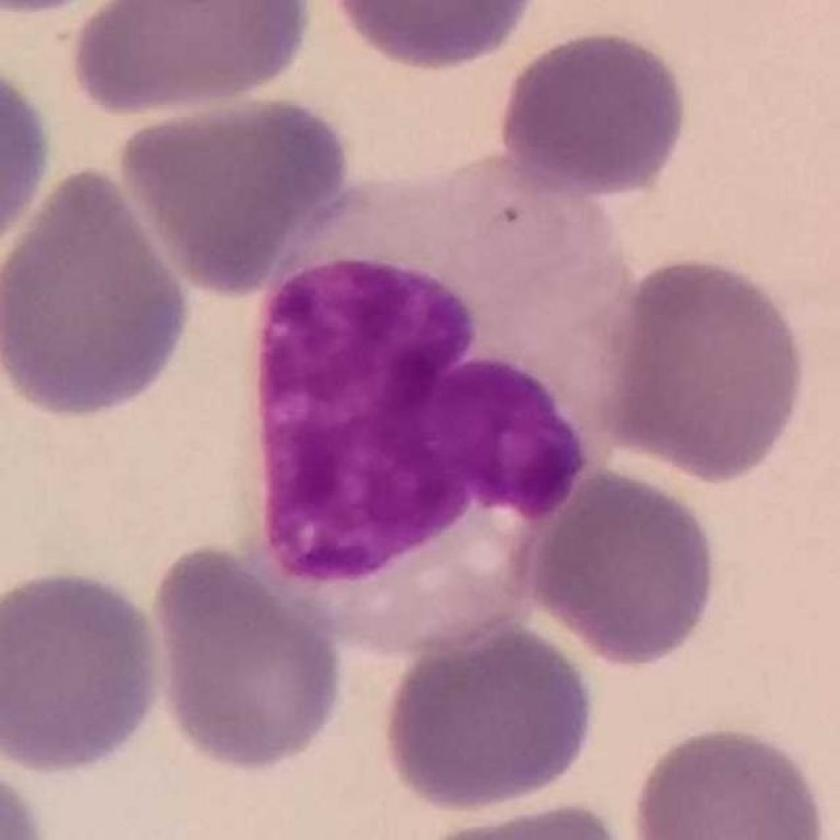monocyte: (222, 144, 658, 682)
